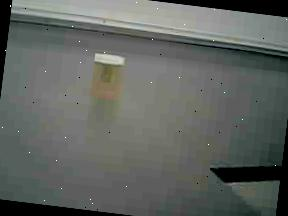Bottle B: (82, 46, 140, 108)
